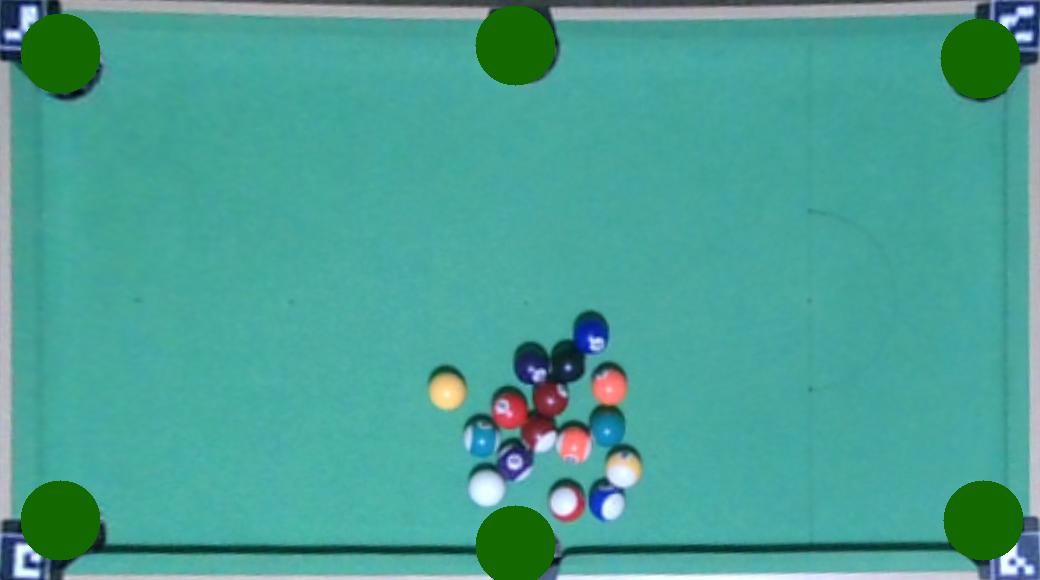Ball: (495, 441, 533, 481), (488, 392, 528, 430), (426, 372, 465, 410), (468, 470, 506, 508), (590, 368, 628, 406), (461, 418, 499, 456), (604, 450, 642, 488), (572, 317, 610, 353), (548, 484, 584, 522), (590, 483, 626, 520), (556, 428, 592, 464), (514, 348, 550, 384), (590, 409, 625, 445), (524, 413, 555, 453), (533, 382, 569, 415), (553, 347, 585, 381)
